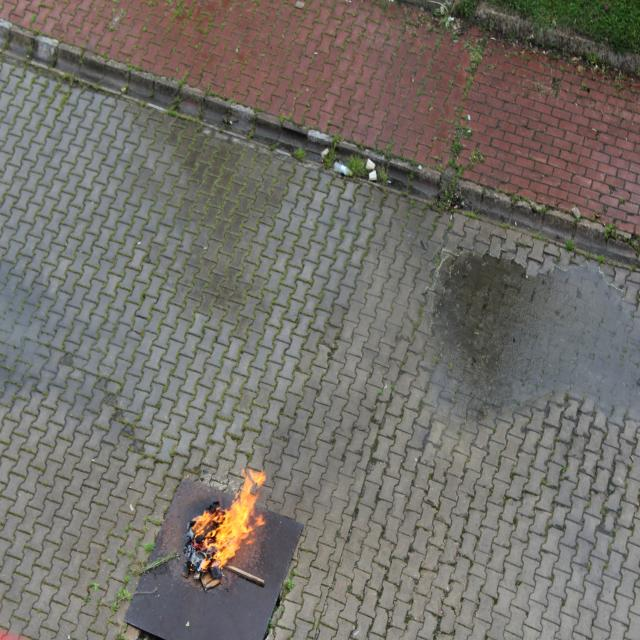fire: (182, 456, 276, 580)
